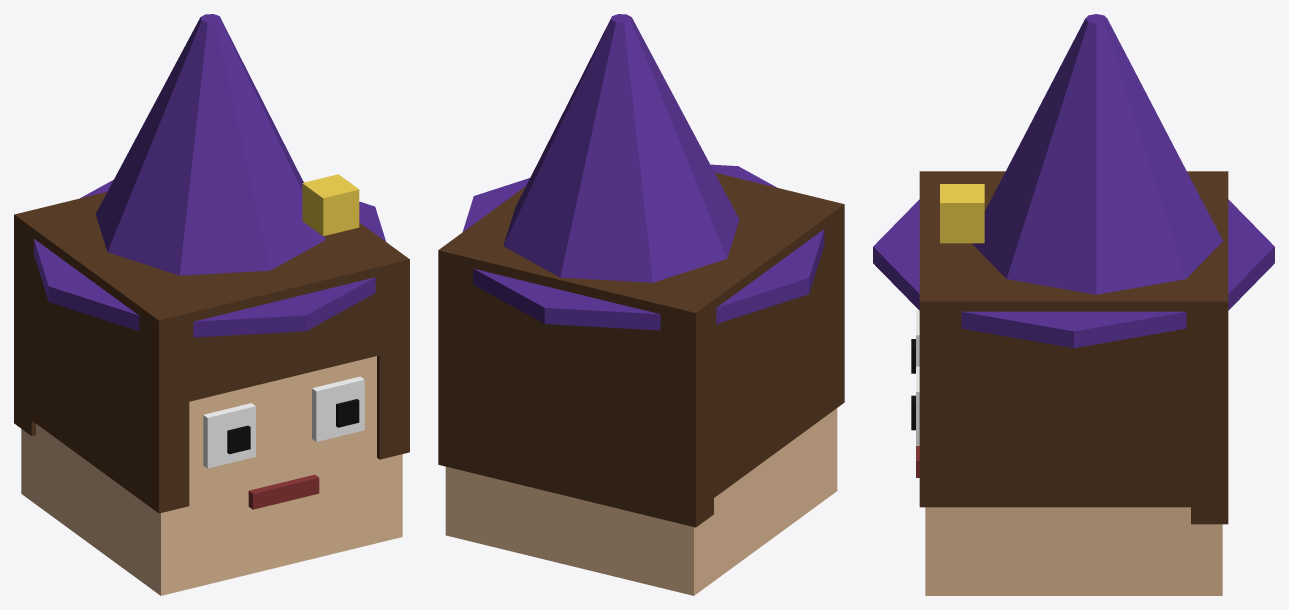
Rendered from head_wizard.fbx.
3 renders of one model, left to right at view 1: azimuth 30°, elevation 25°; view 2: azimuth 150°, elevation 25°; view 3: azimuth 270°, elevation 25°, orthographic. The views are drawn at different scales.
Visible parts, largest first — view 1: head_wizard; view 2: head_wizard; view 3: head_wizard.
Part boxes in pixels (x1,y1,x2,y2): head_wizard: (14,14,409,595); head_wizard: (438,14,844,595); head_wizard: (873,14,1274,595).
Size of the model in its own units: 10.8 by 15.4 by 10.8.
